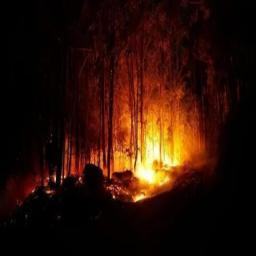Medium fire: (87, 92, 208, 206)
Small fire: (25, 173, 80, 200)
